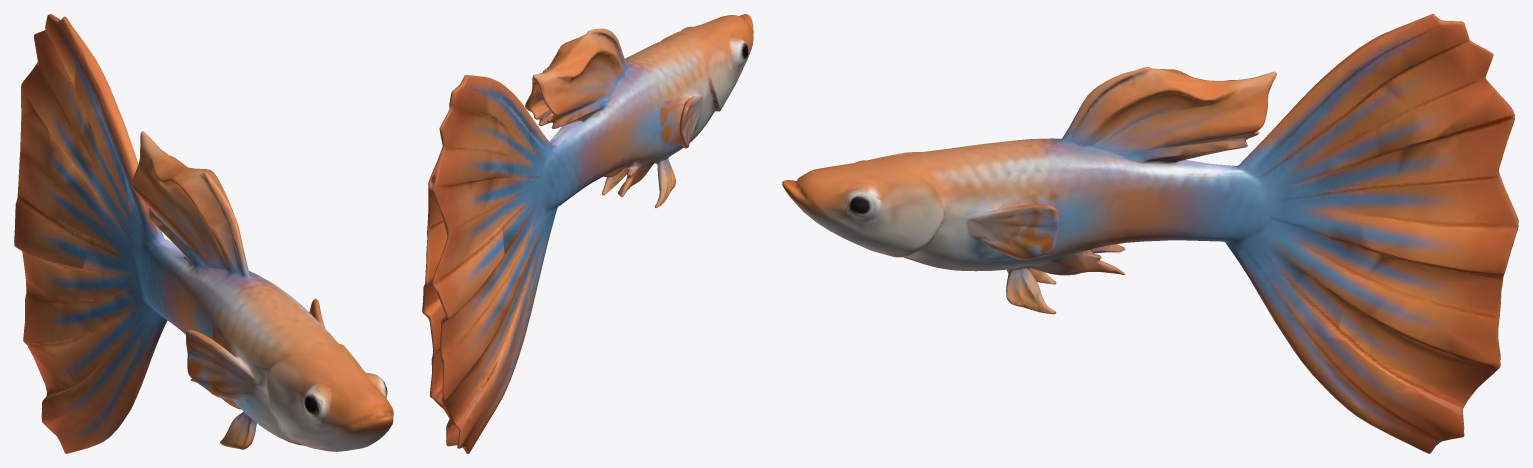
File: fish_guppy.glb
3 views of the same model, side by side, from view 1: azimuth 30°, elevation 25°; view 2: azimuth 150°, elevation 25°; view 3: azimuth 270°, elevation 25° (orthographic). The views are drawn at different scales.
Visible parts, largest first — view 1: Mesh_0; view 2: Mesh_0; view 3: Mesh_0.
Boxes of the visible parts, x1,y1,x2,y2 form: Mesh_0: (14,14,393,453); Mesh_0: (422,14,753,453); Mesh_0: (782,14,1518,453).
Size of the model in its own units: 0.3973 by 1.26 by 1.91.
Materials: 1 (1 with a texture image).
